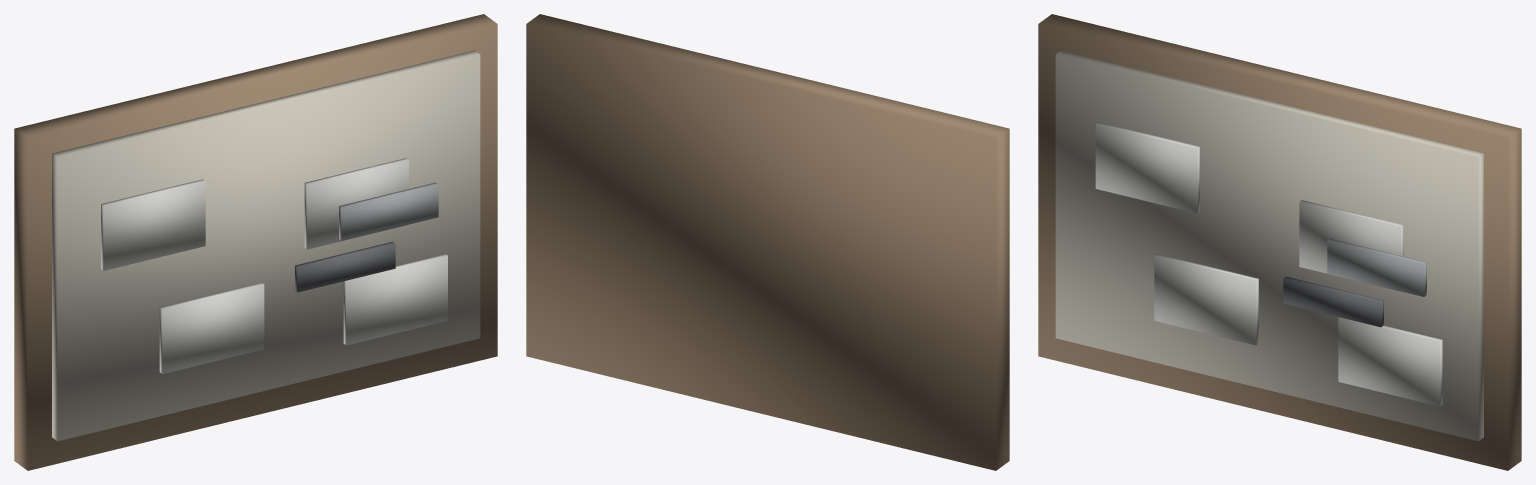
File: menu_board__weathered.glb
3 views of the same model, side by side, from view 1: azimuth 30°, elevation 25°; view 2: azimuth 150°, elevation 25°; view 3: azimuth 330°, elevation 25° (orthographic).
Parts seen in each view (by area): view 1: world; view 2: world; view 3: world.
Boxes of the visible parts, x1=… form: world: x1=14, y1=14, x2=497, y2=470; world: x1=526, y1=14, x2=1009, y2=470; world: x1=1038, y1=14, x2=1521, y2=470.
Bounding box in the file's own units: 1.2 × 0.8118 × 0.115.
